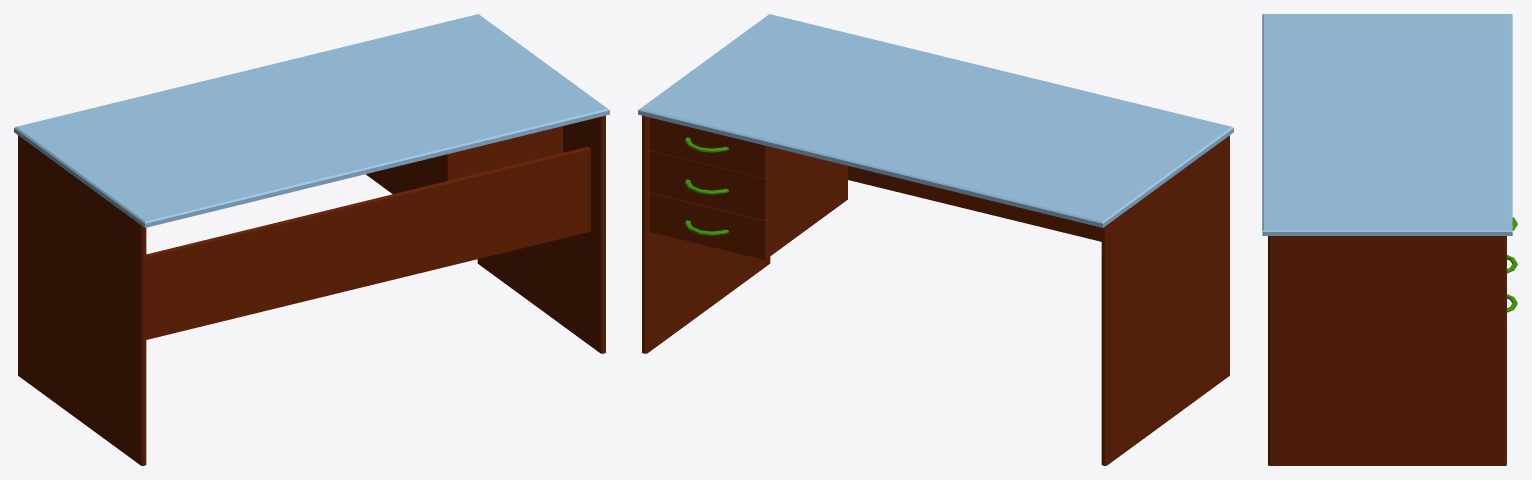
Rendered from Table.fbx.
3 views of the same model, side by side, from view 1: azimuth 30°, elevation 25°; view 2: azimuth 150°, elevation 25°; view 3: azimuth 270°, elevation 25° (orthographic). The views are drawn at different scales.
Parts seen in each view (by area): view 1: Table; view 2: Table; view 3: Table.
Part boxes in pixels (box(x1,y1,x2,y2)): Table: box(14, 14, 609, 465); Table: box(638, 14, 1233, 465); Table: box(1262, 14, 1517, 465).
Size of the model in its own units: 2.53 by 1.28 by 1.26.
